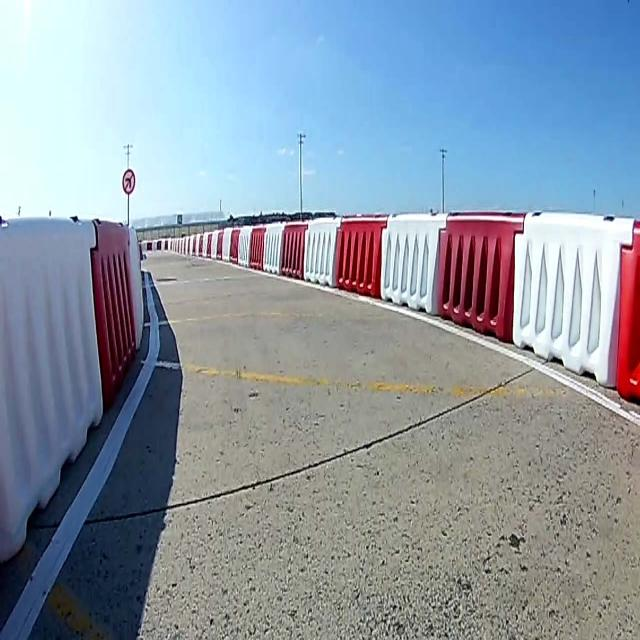soladonulmez: (122, 169, 136, 195)
